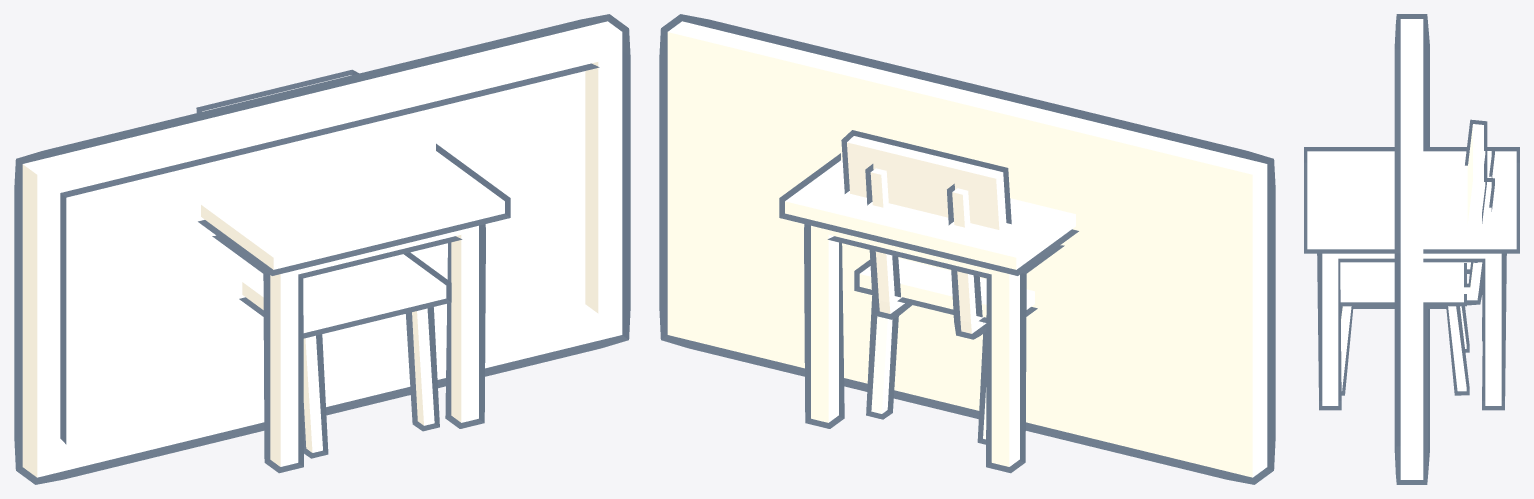
Rendered from implementos.glb.
The picture shows the model from 3 angles, left to right: view 1: azimuth 30°, elevation 25°; view 2: azimuth 150°, elevation 25°; view 3: azimuth 270°, elevation 25°; orthographic projection. The views are drawn at different scales.
Visible parts, largest first — view 1: Tablero, Mesa, Silla; view 2: Tablero, Mesa, Silla; view 3: Mesa, Tablero, Silla.
Part boxes in pixels (x1=…): Tablero: x1=14, y1=14, x2=630, y2=484; Mesa: x1=198, y1=143, x2=510, y2=473; Silla: x1=196, y1=69, x2=451, y2=458; Tablero: x1=659, y1=14, x2=1275, y2=484; Mesa: x1=779, y1=153, x2=1078, y2=473; Silla: x1=841, y1=130, x2=1037, y2=444; Mesa: x1=1304, y1=147, x2=1519, y2=410; Tablero: x1=1394, y1=14, x2=1429, y2=484; Silla: x1=1340, y1=119, x2=1494, y2=395.
Bounding box in the file's own units: 2.26 × 1.14 × 0.9069.
